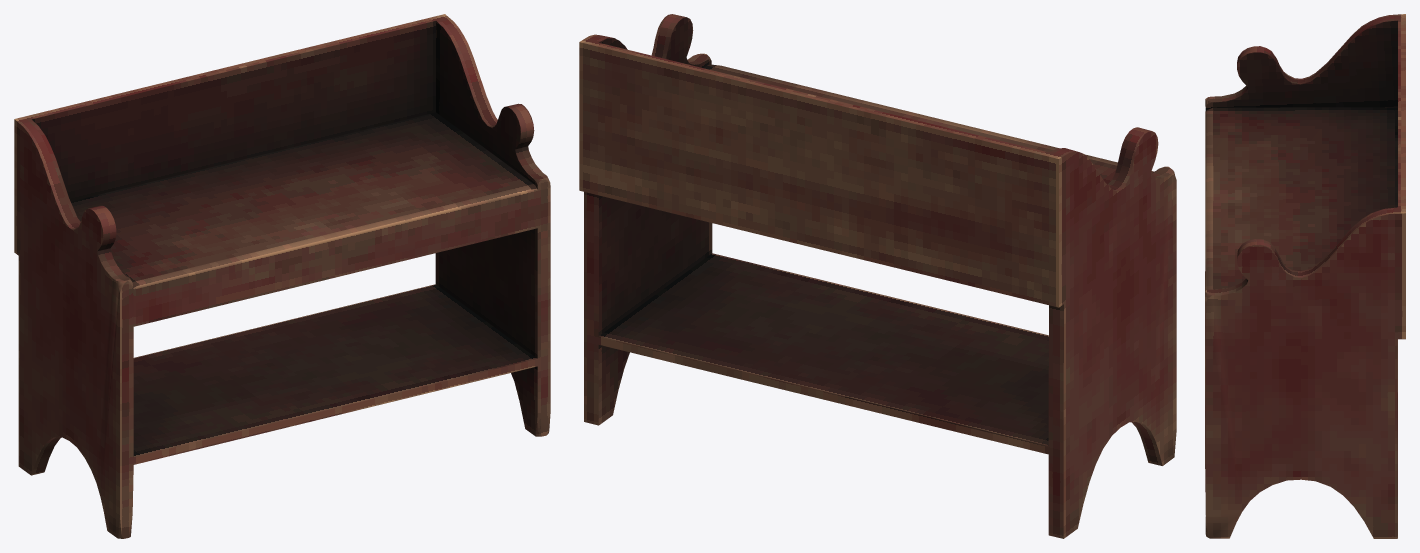
The model's file is painted_wooden_bench.glb.
3 views of the same model, side by side, from view 1: azimuth 30°, elevation 25°; view 2: azimuth 150°, elevation 25°; view 3: azimuth 270°, elevation 25° (orthographic). The views are drawn at different scales.
Parts seen in each view (by area): view 1: painted_wooden_bench; view 2: painted_wooden_bench; view 3: painted_wooden_bench.
Part boxes in pixels (x1=…): painted_wooden_bench: x1=14, y1=14, x2=550, y2=538; painted_wooden_bench: x1=579, y1=14, x2=1176, y2=538; painted_wooden_bench: x1=1205, y1=14, x2=1405, y2=538.
Size of the model in its own units: 1.16 by 0.8893 by 0.4965.
1 material, 1 textured.
